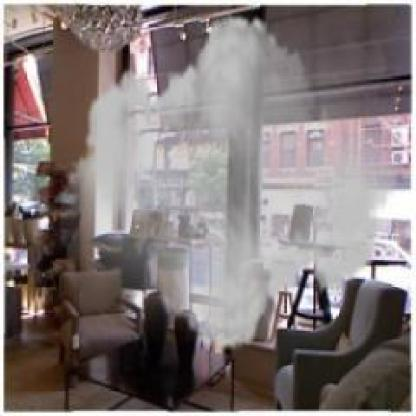Smoke: (59, 0, 406, 364)
